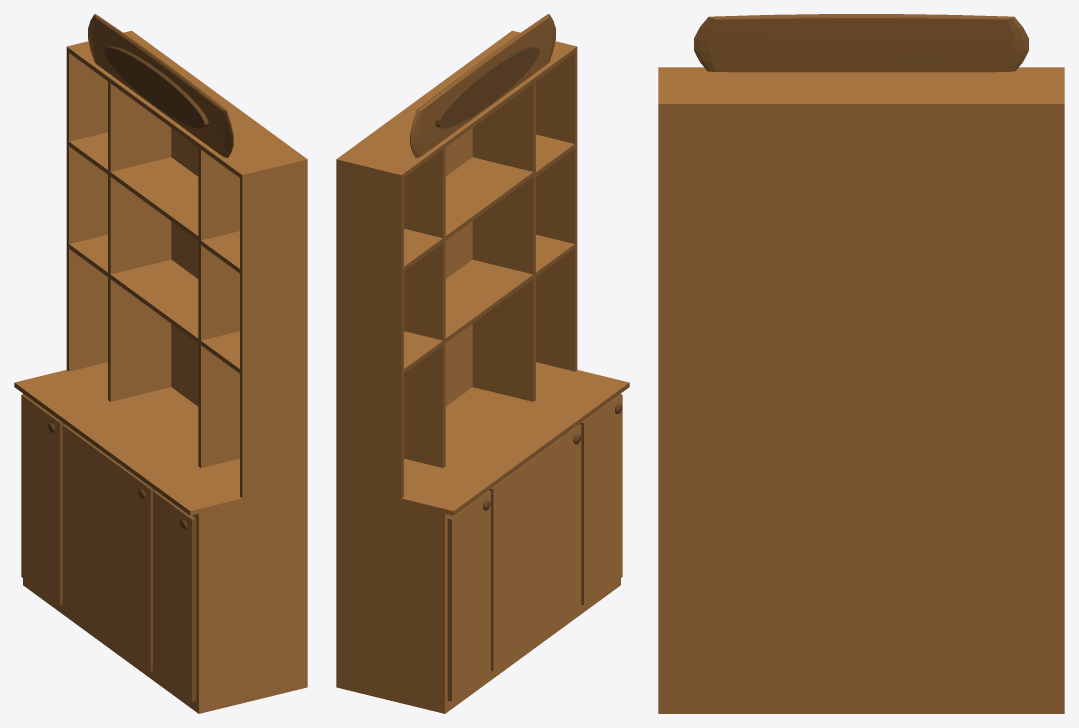
Rendered from OldWoodShelf 1.fbx.
3 views of the same model, side by side, from view 1: azimuth 30°, elevation 25°; view 2: azimuth 150°, elevation 25°; view 3: azimuth 270°, elevation 25° (orthographic). The views are drawn at different scales.
Parts seen in each view (by area): view 1: Cube.018; view 2: Cube.018; view 3: Cube.018.
Boxes of the visible parts, x1,y1,x2,y2 form: Cube.018: (14,14,307,713); Cube.018: (336,14,629,713); Cube.018: (658,14,1064,713).
Bounding box in the file's own units: 54 × 254 × 140.
